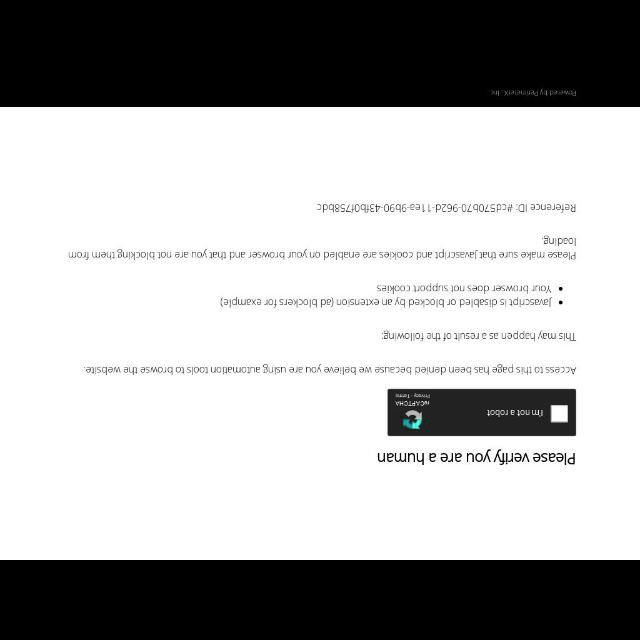checkbox: (550, 404, 568, 422)
image: (402, 411, 422, 432)
text: (67, 234, 577, 260), (81, 362, 577, 374), (219, 298, 553, 308), (378, 328, 578, 344), (316, 202, 576, 214), (377, 450, 576, 464), (377, 282, 553, 294), (489, 88, 577, 98), (486, 408, 544, 418), (394, 399, 431, 406), (394, 393, 430, 399)
